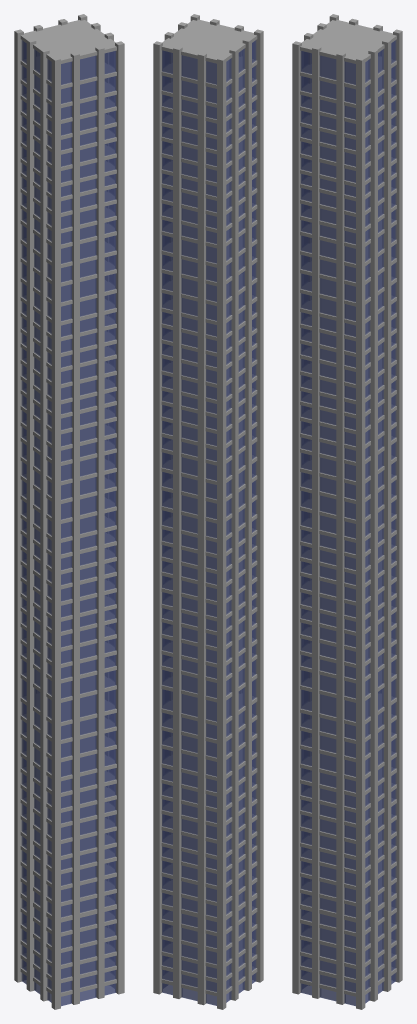
File: Buiding_3.fbx
3 views of the same model, side by side, from view 1: azimuth 30°, elevation 25°; view 2: azimuth 150°, elevation 25°; view 3: azimuth 330°, elevation 25° (orthographic).
Parts seen in each view (by area): view 1: pCube1445; view 2: pCube1445; view 3: pCube1445.
Boxes of the visible parts, box(x1,y1,x2,y2) form: pCube1445: box(14, 14, 124, 1009); pCube1445: box(153, 14, 263, 1009); pCube1445: box(292, 14, 402, 1009).
Bounding box in the file's own units: 7.61 × 97.59 × 7.55.
